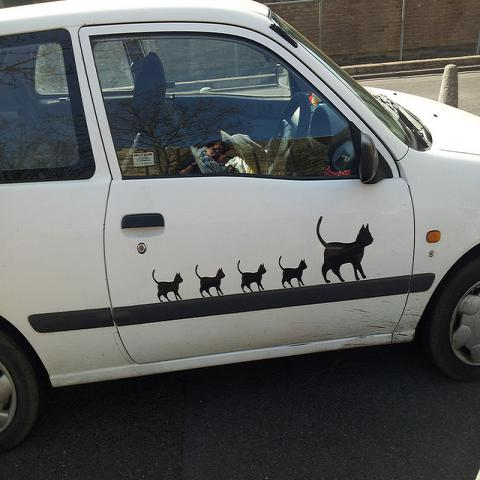car: (1, 0, 479, 457)
